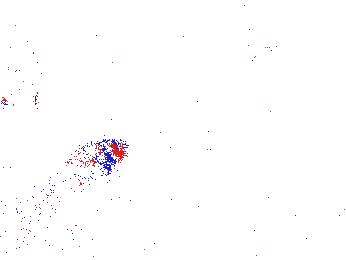X-ray fish: (61, 138, 130, 181), (1, 39, 56, 76)
red belly glassfish: (224, 40, 275, 63), (250, 179, 285, 191)
redtail glassfish: (1, 81, 40, 113)
